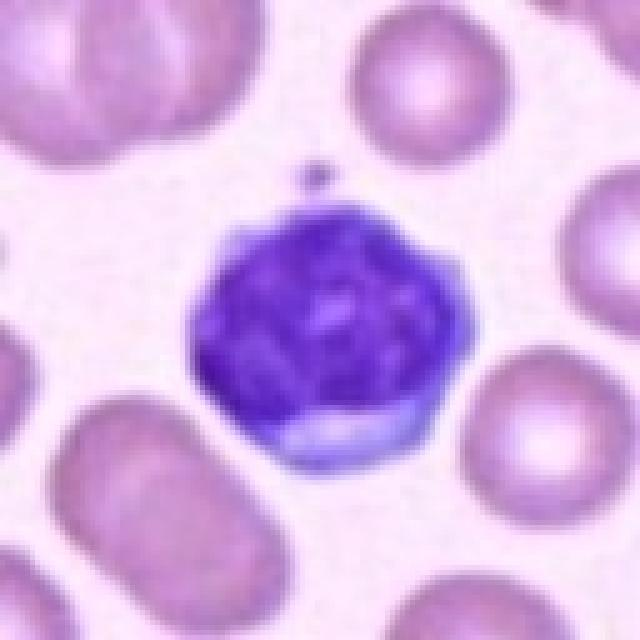lympho: (179, 194, 482, 477)
